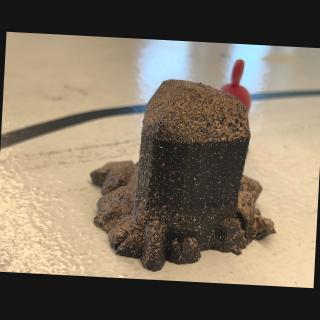teletubby: (220, 59, 251, 112)
